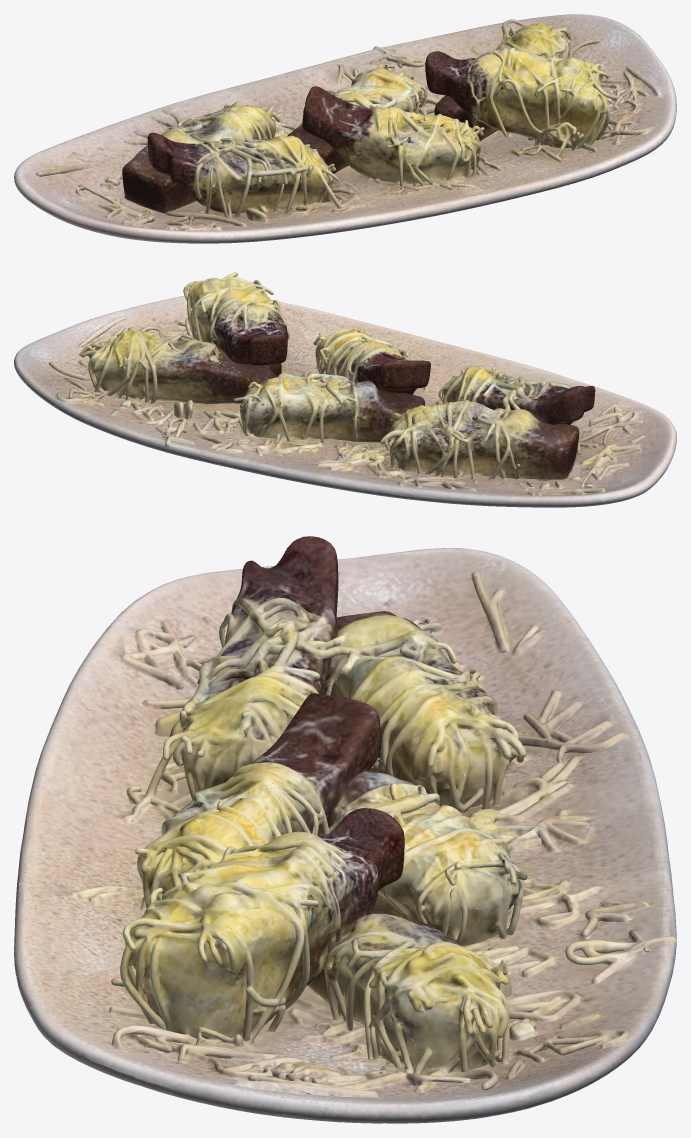
The model's file is mulatka.glb.
3 renders of one model, top to bottom at view 1: azimuth 30°, elevation 25°; view 2: azimuth 150°, elevation 25°; view 3: azimuth 270°, elevation 25°, orthographic. The views are drawn at different scales.
Parts seen in each view (by area): view 1: mulatka; view 2: mulatka; view 3: mulatka.
Part boxes in pixels (x1,y1,x2,y2): mulatka: (14,14,676,243); mulatka: (14,272,676,507); mulatka: (14,536,676,1123).
Size of the model in its own units: 0.9796 by 0.1445 by 0.4933.
Materials: 1 (1 with a texture image).
